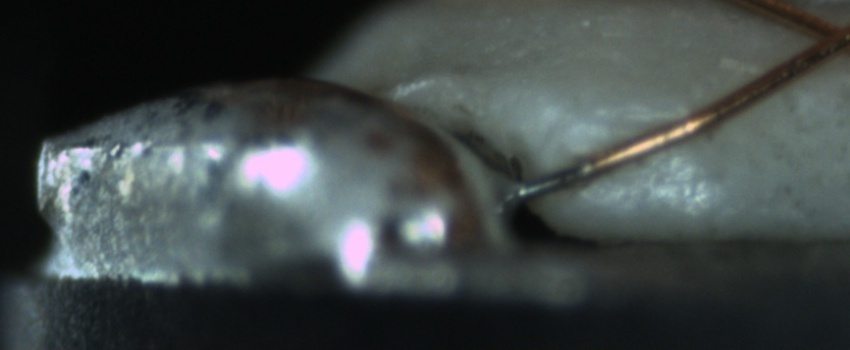CL: (796, 6, 849, 65)
DL: (568, 94, 703, 154)
TS: (510, 159, 590, 204)
TTCW: (514, 152, 615, 200)
